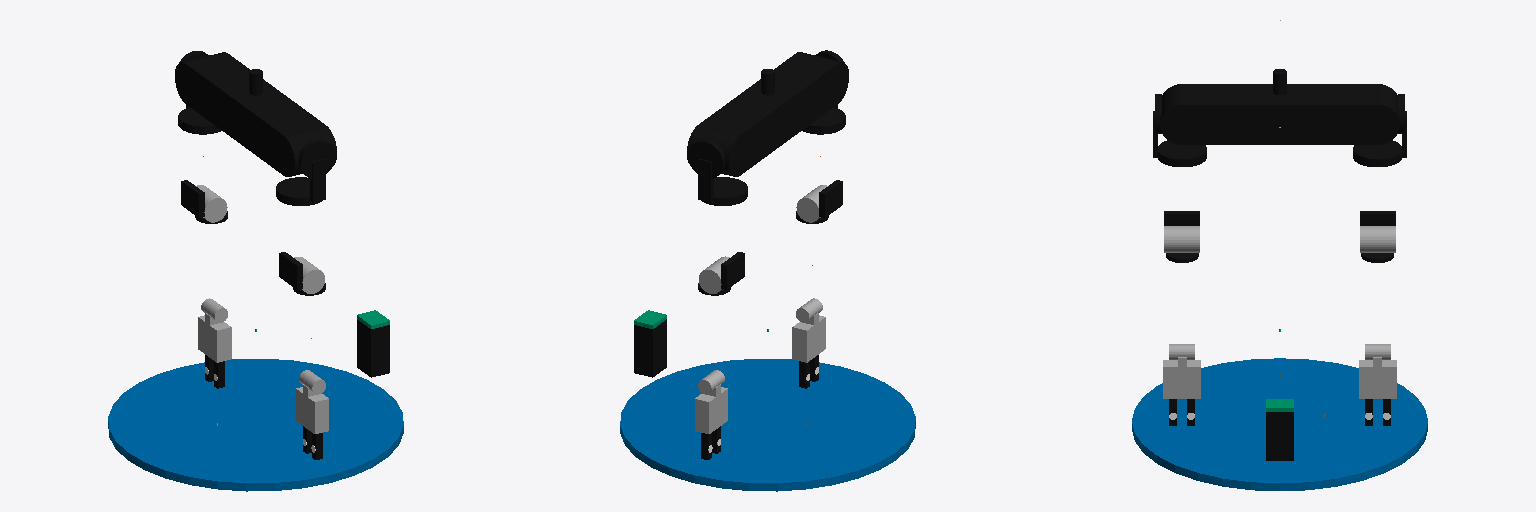
--- What the picture shows (computed from the rendered views, not written in the file) ---
The picture shows the robot from 3 angles, left to right: view 1: azimuth 30°, elevation 25°; view 2: azimuth 150°, elevation 25°; view 3: azimuth 270°, elevation 25°; orthographic projection.
Robot: amigo — 72 links, 71 joints (24 revolute, 1 prismatic, 46 fixed); root link base_link; default pose: every joint at zero.
Links seen in each view (by area): view 1: base_plate, clavicles, base_laser, shoulder_mount_right, hand_left, hand_right, upper_arm_top_right, shoulder_link1_right, shoulder_mount_left, upper_arm_top_left, elbow_extra_block_right, elbow_extra_block_left (+3 smaller); view 2: base_plate, clavicles, base_laser, shoulder_mount_left, hand_right, hand_left, upper_arm_top_left, shoulder_link1_left, shoulder_mount_right, upper_arm_top_right, elbow_extra_block_right, elbow_extra_block_left (+3 smaller); view 3: base_plate, clavicles, shoulder_mount_right, shoulder_mount_left, hand_right, hand_left, base_laser, upper_arm_top_right, upper_arm_top_left, elbow_extra_block2_right, elbow_extra_block2_left, elbow_extra_block_right (+1 smaller).
Link boxes in pixels (x1,y1,x2,y2): base_plate: (108, 359, 403, 491); clavicles: (187, 54, 324, 172); base_laser: (357, 320, 389, 377); shoulder_mount_right: (273, 125, 336, 176); hand_left: (198, 315, 231, 362); hand_right: (296, 387, 328, 433); upper_arm_top_right: (276, 177, 321, 205); shoulder_link1_right: (299, 139, 335, 178); shoulder_mount_left: (175, 52, 227, 105); upper_arm_top_left: (178, 107, 221, 134); elbow_extra_block_right: (279, 252, 302, 289); elbow_extra_block_left: (181, 180, 204, 217); base_plate: (620, 359, 915, 491); clavicles: (699, 54, 837, 174); base_laser: (634, 319, 666, 377); shoulder_mount_left: (687, 125, 750, 176); hand_right: (792, 315, 825, 362); hand_left: (695, 387, 727, 433); upper_arm_top_left: (702, 177, 747, 205); shoulder_link1_left: (688, 139, 724, 178); shoulder_mount_right: (796, 52, 848, 105); upper_arm_top_right: (802, 107, 845, 134); elbow_extra_block_right: (819, 180, 842, 217); elbow_extra_block_left: (721, 252, 744, 289); base_plate: (1132, 358, 1427, 490); clavicles: (1183, 84, 1376, 144); shoulder_mount_right: (1160, 84, 1203, 144); shoulder_mount_left: (1356, 84, 1399, 144); hand_right: (1163, 360, 1200, 398); hand_left: (1359, 360, 1396, 398); base_laser: (1266, 412, 1293, 460); upper_arm_top_right: (1158, 140, 1206, 166); upper_arm_top_left: (1353, 140, 1401, 166); elbow_extra_block2_right: (1164, 226, 1199, 252); elbow_extra_block2_left: (1360, 226, 1395, 252); elbow_extra_block_right: (1164, 211, 1199, 225).
Bounding box of the posed robot: 0.6681 × 0.666 × 1.05 m (x, y, z).
Meshes: 10 distinct files referenced, 14 mesh visuals loaded (10 Collada DAE).

The robot description file, URDF, robot "amigo":
<?xml version="1.0" ?>
<!-- =================================================================================== -->
<!-- |    This document was autogenerated by xacro from [local-path]/ros/groovy/tue/trunk/amigo_common/amigo_description/scripts/../urdf/xacro/amigo.urdf.xacro | -->
<!-- |    EDITING THIS FILE BY HAND IS NOT RECOMMENDED                                 | -->
<!-- =================================================================================== -->
<robot name="amigo" xmlns:controller="http://playerstage.sourceforge.net/gazebo/xmlschema/#controller" xmlns:interface="http://playerstage.sourceforge.net/gazebo/xmlschema/#interface" xmlns:sensor="http://playerstage.sourceforge.net/gazebo/xmlschema/#sensor" xmlns:xacro="http://ros.org/wiki/xacro">
  <author>Rob Janssen</author>
  <license>BSD</license>
  <review notes="" status="unreviewed"/>
  <!--get link & joint definitions -->
  <author>Kris van Tienhoven</author>
  <license>BSD</license>
  <review notes="" status="unreviewed"/>
  <!--get custom materials -->
  <author>Kris van Tienhoven</author>
  <license>BSD</license>
  <review notes="" status="unreviewed"/>
  <material name="Blue">
    <color rgba="0.0 0.0 0.8 1.0"/>
  </material>
  <material name="Green">
    <color rgba="0.0 0.8 0.0 1.0"/>
  </material>
  <material name="Grey">
    <color rgba="0.7 0.7 0.7 1.0"/>
  </material>
  <material name="Grey2">
    <color rgba="0.9 0.9 0.9 1.0"/>
  </material>
  <material name="Red">
    <color rgba="0.8 0.0 0.0 1.0"/>
  </material>
  <material name="White">
    <color rgba="1.0 1.0 1.0 1.0"/>
  </material>
  <material name="Black">
    <color rgba="0.1 0.1 0.1 1.0"/>
  </material>
  <material name="LightGrey">
    <color rgba="0.6 0.6 0.6 1.0"/>
  </material>
  <material name="amigo_description/bottomcovers">
    <texture filename="package://amigo_description/media/materials/textures/bottomcovers/finalreduced.jpg"/>
  </material>
  <material name="amigo_description/white">
    <texture filename="package://amigo_description/media/materials/textures/white/white.jpg"/>
  </material>
  <material name="amigo_description/logo">
    <texture filename="package://amigo_description/media/materials/textures/logo/tue.jpg"/>
  </material>
  <material name="amigo_description/aluminium">
    <texture filename="package://amigo_description/media/materials/textures/aluminium/aluminium_0001_c.jpg"/>
  </material>
  <material name="amigo_description/orange">
    <texture filename="package://amigo_description/media/materials/textures/orange/orange.jpg"/>
  </material>
  <!--========BUILD BODY======-->
  <author>Rob Janssen, Kris van Tienhoven</author>
  <license>BSD</license>
  <review notes="" status="unreviewed"/>
  <link name="torso">
    <inertial>
      <origin rpy="0 0 0" xyz="0.0 0.0 0.0"/>
      <mass value="16"/>
      <inertia ixx="0.01" ixy="0" ixz="0" iyy="0.01" iyz="0" izz="0.01"/>
    </inertial>
    <visual>
      <origin rpy="-1.5708 0 -1.5708" xyz="0.045 0.0 0.06"/>
      <geometry>
        <mesh filename="package://amigo_description/media/meshes/torsocovers.dae" scale="0.0004 0.0004 0.0004"/>
      </geometry>
      <material name="amigo_description/white"/>
    </visual>
    <collision>
      <origin rpy="-1.5708 0 -1.5708" xyz="0.045 0.0 0.06"/>
      <geometry>
        <mesh filename="package://amigo_description/media/meshes/torsocovers.dae" scale="0.0004 0.0004 0.0004"/>
      </geometry>
    </collision>
  </link>
  <gazebo reference="torso">
    <material>amigo_description/white</material>
    <turnGravityOff>false</turnGravityOff>
  </gazebo>
  <link name="torso_slider">
    <inertial>
      <origin rpy="0 0 0" xyz="0 0 0"/>
      <mass value="0.1"/>
      <inertia ixx="0.01" ixy="0" ixz="0" iyy="0.01" iyz="0" izz="0.01"/>
    </inertial>
    <visual>
      <origin rpy="0 0 1.5708" xyz="0.05 0 0.0"/>
      <geometry>
        <mesh filename="package://amigo_description/media/meshes/torsoslidertextured.dae" scale="0.004 0.004 0.004"/>
      </geometry>
      <material name="amigo_description/aluminium"/>
    </visual>
    <collision>
      <origin rpy="0 0 1.5708" xyz="0.05 0 0.0"/>
      <geometry>
        <mesh filename="package://amigo_description/media/meshes/torsoslidertextured.dae" scale="0.004 0.004 0.004"/>
      </geometry>
    </collision>
  </link>
  <gazebo reference="torso_slider">
    <material>amigo_description/aluminium</material>
    <turnGravityOff>false</turnGravityOff>
  </gazebo>
  <link name="base">
    <inertial>
      <origin rpy="0 0 0" xyz="0.0 0.0 0.3275"/>
      <mass value="20"/>
      <inertia ixx="2.63" ixy="0" ixz="0" iyy="2.63" iyz="0" izz="2.4"/>
    </inertial>
    <visual>
      <origin rpy="0 0 -1.5708" xyz="0.0 0.0 0.23"/>
      <geometry>
        <mesh filename="package://amigo_description/media/meshes/bottomcovers.dae" scale="0.0004 0.0004 0.0004"/>
      </geometry>
      <material name="amigo_description/bottomcovers"/>
    </visual>
    <collision>
      <origin rpy="0 0 -1.5708" xyz="0.0 0.0 0.23"/>
      <geometry>
        <mesh filename="package://amigo_description/media/meshes/bottomcovers.dae" scale="0.0004 0.0004 0.0004"/>
      </geometry>
    </collision>
  </link>
  <gazebo reference="base">
    <material>amigo_description/bottomcovers</material>
    <turnGravityOff>false</turnGravityOff>
  </gazebo>
  <link name="base_link">
    <inertial>
      <origin rpy="0 0 0" xyz="0.0 0.0 0.0"/>
      <mass value="0"/>
      <inertia ixx="0" ixy="0" ixz="0" iyy="0" iyz="0" izz="0"/>
    </inertial>
    <visual>
      <origin rpy="0 0 0" xyz="0.0 0.0 0.0"/>
      <geometry>
        <cylinder length="0.00" radius="0.0"/>
      </geometry>
      <material name="Red">
     </material>
    </visual>
    <collision>
      <origin rpy="0 0 0" xyz="0.0 0.0 0.0"/>
      <geometry>
        <cylinder length="0.00" radius="0.0"/>
      </geometry>
    </collision>
  </link>
  <gazebo reference="base_link">
    <material>Gazebo/Red</material>
    <turnGravityOff>false</turnGravityOff>
  </gazebo>
  <joint name="torso_joint" type="prismatic">
    <parent link="base"/>
    <child link="torso_slider"/>
    <axis xyz="1 0 0"/>
    <origin rpy="3.14159265 -1.5708 0" xyz="0.0 0.0 0.58"/>
    <dynamics damping="3" friction="0.0"/>
    <!--*-->
    <limit effort="1000" lower="0.0" upper="0.41" velocity="10.0"/>
    <!--*-->
  </joint>
  <joint name="base_link_joint" type="fixed">
    <parent link="base_link"/>
    <child link="base"/>
    <axis xyz="1 0 0"/>
    <origin rpy="0 0 0" xyz="0.0 0.0 0.055"/>
  </joint>
  <joint name="torso_slider_joint" type="fixed">
    <parent link="torso_slider"/>
    <child link="torso"/>
    <axis xyz="1 0 0"/>
    <origin rpy="0 0 0" xyz="0.135 0.0 0.0"/>
  </joint>
  <!--extra body visuals-->
  <author>Kris van Tienhoven</author>
  <license>BSD</license>
  <review notes="" status="unreviewed"/>
  <link name="base_plate">
    <inertial>
      <origin rpy="0 0 0" xyz="0.0 0.0 0.0"/>
      <mass value="0.1"/>
      <inertia ixx="0.01" ixy="0" ixz="0" iyy="0.01" iyz="0" izz="0.01"/>
    </inertial>
    <visual>
      <origin rpy="0 0 0" xyz="0.0 0.0 0.0"/>
      <geometry>
        <cylinder length="0.02" radius="0.333"/>
      </geometry>
      <material name="amigo_description/aluminium">
     </material>
    </visual>
    <collision>
      <origin rpy="0 0 0" xyz="0.0 0.0 0.0"/>
      <geometry>
        <cylinder length="0.02" radius="0.333"/>
      </geometry>
    </collision>
  </link>
  <gazebo reference="base_plate">
    <material>amigo_description/aluminium</material>
    <turnGravityOff>false</turnGravityOff>
  </gazebo>
  <joint name="base_plate_joint" type="fixed">
    <parent link="base_link"/>
    <child link="base_plate"/>
    <axis xyz="1 0 0"/>
    <origin rpy="0 0 0" xyz="0.0 0.0 0.05"/>
  </joint>
  <link name="torso_assist_slider_right">
    <inertial>
      <origin rpy="0 0 0" xyz="0 0 0"/>
      <mass value="0.01"/>
      <inertia ixx="0.01" ixy="0" ixz="0" iyy="0.01" iyz="0" izz="0.01"/>
    </inertial>
    <visual>
      <origin rpy="0 1.5708 0" xyz="-0.4  0.0 0.0"/>
      <geometry>
        <mesh filename="package://amigo_description/media/meshes/torsoassistslidertextured.dae" scale="0.004 0.004 0.005"/>
      </geometry>
      <material name="amigo_description/aluminium"/>
    </visual>
    <collision>
      <origin rpy="0 1.5708 0" xyz="-0.4  0.0 0.0"/>
      <geometry>
        <mesh filename="package://amigo_description/media/meshes/torsoassistslidertextured.dae" scale="0.004 0.004 0.005"/>
      </geometry>
    </collision>
  </link>
  <gazebo reference="torso_assist_slider_right">
    <material>amigo_description/aluminium</material>
    <turnGravityOff>false</turnGravityOff>
  </gazebo>
  <link name="torso_assist_slider_left">
    <inertial>
      <origin rpy="0 0 0" xyz="0 0 0"/>
      <mass value="0.01"/>
      <inertia ixx="0.01" ixy="0" ixz="0" iyy="0.01" iyz="0" izz="0.01"/>
    </inertial>
    <visual>
      <origin rpy="0 1.5708 0" xyz="-0.4  0.0 0.0"/>
      <geometry>
        <mesh filename="package://amigo_description/media/meshes/torsoassistslidertextured.dae" scale="0.004 0.004 0.005"/>
      </geometry>
      <material name="amigo_description/aluminium"/>
    </visual>
    <collision>
      <origin rpy="0 1.5708 0" xyz="-0.4  0.0 0.0"/>
      <geometry>
        <mesh filename="package://amigo_description/media/meshes/torsoassistslidertextured.dae" scale="0.004 0.004 0.005"/>
      </geometry>
    </collision>
  </link>
  <gazebo reference="torso_assist_slider_left">
    <material>amigo_description/aluminium</material>
    <turnGravityOff>false</turnGravityOff>
  </gazebo>
  <link name="torso_assist_slider_back">
    <inertial>
      <origin rpy="0 0 0" xyz="0 0 0"/>
      <mass value="0.01"/>
      <inertia ixx="0.01" ixy="0" ixz="0" iyy="0.01" iyz="0" izz="0.01"/>
    </inertial>
    <visual>
      <origin rpy="0 1.5708 0" xyz="-0.4 0.0 0.0"/>
      <geometry>
        <mesh filename="package://amigo_description/media/meshes/torsoassistslidertextured.dae" scale="0.004 0.004 0.005"/>
      </geometry>
      <material name="amigo_description/aluminium"/>
    </visual>
    <collision>
      <origin rpy="0 1.5708 0" xyz="-0.4 0.0 0.0"/>
      <geometry>
        <mesh filename="package://amigo_description/media/meshes/torsoassistslidertextured.dae" scale="0.004 0.004 0.005"/>
      </geometry>
    </collision>
  </link>
  <gazebo reference="torso_assist_slider_back">
    <material>amigo_description/aluminium</material>
    <turnGravityOff>false</turnGravityOff>
  </gazebo>
  <joint name="torso_slider_assist_joint_right" type="fixed">
    <parent link="torso"/>
    <child link="torso_assist_slider_right"/>
    <origin rpy="0 0 0" xyz="-0.3 0.1 0.0"/>
  </joint>
  <joint name="torso_slider_assist_joint_left" type="fixed">
    <parent link="torso"/>
    <child link="torso_assist_slider_left"/>
    <origin rpy="0 0 0" xyz="-0.3 -0.1 0.0"/>
  </joint>
  <joint name="torso_slider_assist_joint_back" type="fixed">
    <parent link="torso"/>
    <child link="torso_assist_slider_back"/>
    <origin rpy="1.5708 0 0" xyz="-0.3 0.0 -0.1"/>
  </joint>
  <link name="clavicles">
    <inertial>
      <origin rpy="0 0 0" xyz="0 0 0"/>
      <mass value="0.01"/>
      <inertia ixx="0.01" ixy="0" ixz="0" iyy="0.01" iyz="0" izz="0.01"/>
    </inertial>
    <visual>
      <origin rpy="0 0 0" xyz="0.0 0.0 0.0"/>
      <geometry>
        <box size="0.1 0.436 0.11"/>
      </geometry>
      <material name="Black">
     </material>
    </visual>
    <collision>
      <origin rpy="0 0 0" xyz="0.0 0.0 0.0"/>
      <geometry>
        <box size="0.1 0.436 0.11"/>
      </geometry>
    </collision>
  </link>
  <gazebo reference="clavicles">
    <material>Gazebo/Black</material>
    <turnGravityOff>false</turnGravityOff>
  </gazebo>
  <joint name="clavicle_joint" type="fixed">
    <parent link="torso"/>
    <child link="clavicles"/>
    <origin rpy="0 0 0" xyz="0.05 0.0 0.0"/>
  </joint>
  <!--========BUILD LASER======-->
  <author>Kris van Tienhoven</author>
  <license>BSD</license>
  <review notes="" status="unreviewed"/>
  <link name="base_laser">
    <inertial>
      <origin rpy="0 0 0" xyz="0.0 0.0 0.0"/>
      <mass value="0.5"/>
      <inertia ixx="0.0001" ixy="0" ixz="0" iyy="0.0001" iyz="0" izz="0.0001"/>
    </inertial>
    <visual>
      <origin rpy="0 0 0" xyz="-0.005 0.0 -0.065"/>
      <geometry>
        <box size="0.05 0.065 0.12"/>
      </geometry>
      <material name="Black">
     </material>
    </visual>
    <collision>
      <origin rpy="0 0 0" xyz="-0.005 0.0 -0.065"/>
      <geometry>
        <box size="0.05 0.065 0.12"/>
      </geometry>
    </collision>
  </link>
  <gazebo reference="base_laser">
    <material>Gazebo/Black</material>
    <turnGravityOff>false</turnGravityOff>
  </gazebo>
  <joint name="base_laser_joint" type="fixed">
    <parent link="base"/>
    <child link="base_laser"/>
    <origin rpy="0 0 0" xyz="0.31 0.0 0.185"/>
    <axis xyz="0 1 0"/>
    <dynamics damping="0.1" friction="0"/>
    <limit effort="13.4" lower="-0.7809" upper="1.5708" velocity="1.0"/>
  </joint>
  <link name="lasertop">
    <inertial>
      <origin rpy="0 0 0" xyz="0.0 0.0 0.0"/>
      <mass value="0.01"/>
      <inertia ixx="0.0001" ixy="0" ixz="0" iyy="0.0001" iyz="0" izz="0.0001"/>
    </inertial>
    <visual>
      <origin rpy="0 0 0" xyz="-0.005 0.0 0.0"/>
      <geometry>
        <box size="0.05 0.065 0.01"/>
      </geometry>
      <material name="amigo_description/orange">
     </material>
    </visual>
    <collision>
      <origin rpy="0 0 0" xyz="-0.005 0.0 0.0"/>
      <geometry>
        <box size="0.05 0.065 0.01"/>
      </geometry>
    </collision>
  </link>
  <gazebo reference="lasertop">
    <material>amigo_description/orange</material>
    <turnGravityOff>false</turnGravityOff>
  </gazebo>
  <joint name="lasertop_joint" type="fixed">
    <parent link="base_laser"/>
    <child link="lasertop"/>
  </joint>
  <link name="logo">
    <inertial>
      <origin rpy="0 0 0" xyz="0.0 0.0 0.0"/>
      <mass value="0.01"/>
      <inertia ixx="0.0001" ixy="0" ixz="0" iyy="0.0001" iyz="0" izz="0.0001"/>
    </inertial>
    <visual>
      <origin rpy="0 0 3.1415" xyz="0.025 0.0 -0.14"/>
      <geometry>
        <mesh filename="package://amigo_description/media/meshes/logo.dae" scale="0.0016 0.0016 0.0016"/>
      </geometry>
      <material name="amigo_description/logo"/>
    </visual>
    <collision>
      <origin rpy="0 0 3.1415" xyz="0.025 0.0 -0.14"/>
      <geometry>
        <mesh filename="package://amigo_description/media/meshes/logo.dae" scale="0.0016 0.0016 0.0016"/>
      </geometry>
    </collision>
  </link>
  <gazebo reference="logo">
    <material>amigo_description/logo</material>
    <turnGravityOff>false</turnGravityOff>
  </gazebo>
  <joint name="logo_joint" type="fixed">
    <parent link="base_laser"/>
    <child link="logo"/>
  </joint>
  <!--========BUILD HEAD======-->
  <author>Kris van Tienhoven</author>
  <license>BSD</license>
  <review notes="" status="unreviewed"/>
  <link name="head_mount">
    <inertial>
      <origin rpy="0 0 0" xyz="0.0 0.0 0.0"/>
      <mass value="0.001"/>
      <inertia ixx="0.0001" ixy="0" ixz="0" iyy="0.0001" iyz="0" izz="0.0001"/>
    </inertial>
  </link>
  <joint name="head_mount_joint" type="fixed">
    <parent link="torso"/>
    <child link="head_mount"/>
    <axis xyz="0 0 1"/>
    <origin rpy="  0.0 0.0 0.0" xyz="0.097 0.0 0.0"/>
  </joint>
  <link name="neck_pan">
    <inertial>
      <origin rpy="0 0 0" xyz="0.0 0.0 0.0335"/>
      <mass value="0.05"/>
      <inertia ixx="0.0001" ixy="0" ixz="0" iyy="0.0001" iyz="0" izz="0.0001"/>
    </inertial>
    <visual>
      <origin rpy="0 0 0" xyz="0.0 0.0 0.0335"/>
      <geometry>
        <cylinder length="0.0525" radius="0.015"/>
      </geometry>
      <material name="Black">
     </material>
    </visual>
    <collision>
      <origin rpy="0 0 0" xyz="0.0 0.0 0.0335"/>
      <geometry>
        <cylinder length="0.0525" radius="0.015"/>
      </geometry>
    </collision>
  </link>
  <gazebo reference="neck_pan">
    <material>Gazebo/Black</material>
    <turnGravityOff>false</turnGravityOff>
  </gazebo>
  <link name="neck_tilt">
    <inertial>
      <origin rpy="0 0 0" xyz="0.0 -0.0 0.0285"/>
      <mass value="0.05"/>
      <inertia ixx="0.001" ixy="0" ixz="0" iyy="0.001" iyz="0" izz="0.001"/>
    </inertial>
    <visual>
      <origin rpy="0 0 0" xyz="0.0 -0.0 0.015"/>
      <geometry>
        <mesh filename="package://amigo_description/media/meshes/necktilttextured.dae" scale="0.004 0.004 0.004"/>
      </geometry>
      <material name="amigo_description/aluminium"/>
    </visual>
    <collision>
      <origin rpy="0 0 0" xyz="0.0 -0.0 0.015"/>
      <geometry>
        <mesh filename="package://amigo_description/media/meshes/necktilttextured.dae" scale="0.004 0.004 0.004"/>
      </geometry>
    </collision>
  </link>
  <gazebo reference="neck_tilt">
    <material>amigo_description/aluminium</material>
    <turnGravityOff>false</turnGravityOff>
  </gazebo>
  <link name="head">
    <inertial>
      <origin rpy="0 0 0" xyz="0 0 0.041"/>
      <mass value="0"/>
      <inertia ixx="0" ixy="0" ixz="0" iyy="0" iyz="0" izz="0"/>
    </inertial>
    <visual>
      <origin rpy="0 0 -1.5708" xyz="0.0 0.0 0.141"/>
      <geometry>
        <mesh filename="package://amigo_description/media/meshes/headtextured.dae" scale="0.0004 0.0004 0.0004"/>
      </geometry>
      <material name="amigo_description/white"/>
    </visual>
    <collision>
      <origin rpy="0 0 -1.5708" xyz="0.0 0.0 0.141"/>
      <geometry>
        <mesh filename="package://amigo_description/media/meshes/headtextured.dae" scale="0.0004 0.0004 0.0004"/>
      </geometry>
    </collision>
  </link>
  <gazebo reference="head">
    <material>amigo_description/white</material>
    <turnGravityOff>false</turnGravityOff>
  </gazebo>
  <joint name="head_joint" type="fixed">
    <parent link="neck_tilt"/>
    <child link="head"/>
  </joint>
  <joint name="neck_pan_joint" type="revolute">
    <parent link="head_mount"/>
    <child link="neck_pan"/>
    <origin rpy="3.14 -1.5708 0.0" xyz="0.0 0.0 0.0"/>
    <axis xyz="0 0 1"/>
    <dynamics damping="0.1" friction="0"/>
    <limit effort="13.4" lower="-1.5708" upper="1.5708" velocity="1.0"/>
  </joint>
  <joint name="neck_tilt_joint" type="revolute">
    <parent link="neck_pan"/>
    <child link="neck_tilt"/>
    <origin rpy="0.0 0.0 0.0" xyz="0.0 0.0 0.0445"/>
    <axis xyz="0 1 0"/>
    <dynamics damping="0.1" friction="0.0"/>
    <limit effort="13.4" lower="-2.0" upper="2.0" velocity="1.0"/>
  </joint>
  <!--========BUILD KINECT======-->
  <joint name="top_kinect/base_kinect_joint" type="fixed">
    <origin rpy="0 0 0" xyz="0.07 0 0.07"/>
    <!-- THESE VALUES ARE ROUGH ESTIMATES!! -->
    <parent link="head"/>
    <child link="top_kinect/openni_camera"/>
  </joint>
  <link name="top_kinect/openni_camera">
    <inertial>
      <mass value="0.01"/>
      <origin xyz="0 0 0"/>
      <inertia ixx="0.001" ixy="0.0" ixz="0.0" iyy="0.001" iyz="0.0" izz="0.001"/>
    </inertial>
    <visual>
      <origin rpy="0 0 0" xyz=" 0 0 0 "/>
      <geometry>
        <box size="0 0 0"/>
        <!--mesh filename="package://amigo_description/kinect/meshes/kinect.dae" scale="0.001 0.001 0.001"/-->
        <!--<mesh filename="package://amigo_description/kinect/meshes/kinect_without_base.dae"/>-->
      </geometry>
    </visual>
    <!--<collision>
      <origin xyz="-0.0365 0.0 0.0" rpy="0 0 0" />
      <geometry>
        <box size="0.0730 .2760 0.0720"/>
      </geometry>
    </collision>-->
  </link>
  <joint name="top_kinect/kinect_depth_joint" type="fixed">
    <origin rpy="0 0 0" xyz="0 0.018 0"/>
    <parent link="top_kinect/openni_camera"/>
    <child link="top_kinect/openni_depth_frame"/>
  </joint>
  <link name="top_kinect/openni_depth_frame">
    <inertial>
      <mass value="0.01"/>
      <origin xyz="0 0 0"/>
      <inertia ixx="0.001" ixy="0.0" ixz="0.0" iyy="0.001" iyz="0.0" izz="0.001"/>
    </inertial>
  </link>
  <joint name="top_kinect/kinect_depth_optical_joint" type="fixed">
    <origin rpy="-1.570795 0 -1.570795" xyz="0 0 0"/>
    <parent link="top_kinect/openni_depth_frame"/>
    <child link="top_kinect/openni_depth_optical_frame"/>
  </joint>
  <link name="top_kinect/openni_depth_optical_frame">
    <inertial>
      <mass value="0.001"/>
      <origin xyz="0 0 0"/>
      <inertia ixx="0.0001" ixy="0.0" ixz="0.0" iyy="0.0001" iyz="0.0" izz="0.0001"/>
    </inertial>
  </link>
  <joint name="top_kinect/kinect_rgb_joint" type="fixed">
    <origin rpy="0 0 0" xyz="0 -0.005 0"/>
    <parent link="top_kinect/openni_camera"/>
    <child link="top_kinect/openni_rgb_frame"/>
  </joint>
  <link name="top_kinect/openni_rgb_frame">
    <inertial>
      <mass value="0.001"/>
      <origin xyz="0 0 0"/>
      <inertia ixx="0.0001" ixy="0.0" ixz="0.0" iyy="0.0001" iyz="0.0" izz="0.0001"/>
    </inertial>
  </link>
  <joint name="top_kinect/kinect_rgb_optical_joint" type="fixed">
    <origin rpy="-1.570795 0 -1.570795" xyz="0 0 0"/>
    <parent link="top_kinect/openni_rgb_frame"/>
    <child link="top_kinect/openni_rgb_optical_frame"/>
  </joint>
  <link name="top_kinect/openni_rgb_optical_frame">
    <inertial>
      <mass value="0.001"/>
      <origin xyz="0 0 0"/>
      <inertia ixx="0.0001" ixy="0.0" ixz="0.0" iyy="0.0001" iyz="0.0" izz="0.0001"/>
    </inertial>
  </link>
  <joint name="base_kinect/base_kinect_joint" type="fixed">
    <origin rpy="0 -0.07 0" xyz="0.3 0 0.26"/>
    <!-- THESE VALUES STILL HAVE TO BE CALIBRATED!! -->
    <parent link="base"/>
    <child link="base_kinect/openni_camera"/>
  </joint>
  <link name="base_kinect/openni_camera">
    <inertial>
      <mass value="0.01"/>
      <origin xyz="0 0 0"/>
      <inertia ixx="0.001" ixy="0.0" ixz="0.0" iyy="0.001" iyz="0.0" izz="0.001"/>
    </inertial>
    <visual>
      <origin rpy="0 0 0" xyz=" 0 0 0 "/>
      <geometry>
        <!--<box size="0 0 0"/>-->
        <!--mesh filename="package://amigo_description/description/kinect/meshes/kinect.dae" scale="0.001 0.001 0.001"/-->
        <mesh filename="package://amigo_description/media/meshes/kinect/kinect_without_base.dae"/>
      </geometry>
    </visual>
    <collision>
      <origin rpy="0 0 0" xyz=" 0 0 0 "/>
      <geometry>
        <!--<box size="0.01 0.01 0.01"/>-->
        <!--<mesh filename="package://amigo_description/description/kinect/meshes/kinect.dae" scale="0.001 0.001 0.001"/>-->
        <mesh filename="package://amigo_description/media/meshes/kinect/kinect_without_base.dae"/>
      </geometry>
    </collision>
  </link>
  <joint name="base_kinect/kinect_depth_joint" type="fixed">
    <origin rpy="0 0 0" xyz="0 0.018 0"/>
    <parent link="base_kinect/openni_camera"/>
    <child link="base_kinect/openni_depth_frame"/>
  </joint>
  <link name="base_kinect/openni_depth_frame">
    <inertial>
      <mass value="0.01"/>
      <origin xyz="0 0 0"/>
      <inertia ixx="0.001" ixy="0.0" ixz="0.0" iyy="0.001" iyz="0.0" izz="0.001"/>
    </inertial>
  </link>
  <joint name="base_kinect/kinect_depth_optical_joint" type="fixed">
    <origin rpy="-1.570795 0 -1.570795" xyz="0 0 0"/>
    <parent link="base_kinect/openni_depth_frame"/>
    <child link="base_kinect/openni_depth_optical_frame"/>
  </joint>
  <link name="base_kinect/openni_depth_optical_frame">
    <inertial>
      <mass value="0.001"/>
      <origin xyz="0 0 0"/>
      <inertia ixx="0.0001" ixy="0.0" ixz="0.0" iyy="0.0001" iyz="0.0" izz="0.0001"/>
    </inertial>
  </link>
  <joint name="base_kinect/kinect_rgb_joint" type="fixed">
    <origin rpy="0 0 0" xyz="0 -0.005 0"/>
    <parent link="base_kinect/openni_camera"/>
    <child link="base_kinect/openni_rgb_frame"/>
  </joint>
  <link name="base_kinect/openni_rgb_frame">
    <inertial>
      <mass value="0.001"/>
      <origin xyz="0 0 0"/>
      <inertia ixx="0.0001" ixy="0.0" ixz="0.0" iyy="0.0001" iyz="0.0" izz="0.0001"/>
    </inertial>
  </link>
  <joint name="base_kinect/kinect_rgb_optical_joint" type="fixed">
    <origin rpy="-1.570795 0 -1.570795" xyz="0 0 0"/>
    <parent link="base_kinect/openni_rgb_frame"/>
    <child link="base_kinect/openni_rgb_optical_frame"/>
  </joint>
  <link name="base_kinect/openni_rgb_optical_frame">
    <inertial>
      <mass value="0.001"/>
      <origin xyz="0 0 0"/>
      <inertia ixx="0.0001" ixy="0.0" ixz="0.0" iyy="0.0001" iyz="0.0" izz="0.0001"/>
    </inertial>
  </link>
  <!--========BUILD ARMS======-->
  <author>Rob Janssen, Kris van Tienhoven</author>
  <license>BSD</license>
  <review notes="" status="unreviewed"/>
  <link name="shoulder_mount_right">
    <inertial>
      <origin rpy="0 0 0" xyz="0.0 0.0 0.0"/>
      <mass value="0.15"/>
      <inertia ixx="0.01" ixy="0" ixz="0" iyy="0.01" iyz="0" izz="0.01"/>
    </inertial>
    <visual>
      <origin rpy="0 0 0 " xyz="0.0 0.0 0.0"/>
      <geometry>
        <cylinder length="0.11" radius="0.05"/>
      </geometry>
      <material name="Black">
     </material>
    </visual>
    <collision>
      <origin rpy="0 0 0 " xyz="0.0 0.0 0.0"/>
      <geometry>
        <cylinder length="0.11" radius="0.05"/>
      </geometry>
    </collision>
  </link>
  <gazebo reference="shoulder_mount_right">
    <material>Gazebo/Black</material>
    <turnGravityOff>false</turnGravityOff>
  </gazebo>
  <link name="shoulder_link1_right">
    <inertial>
      <origin rpy="0 0 0" xyz="0.0 0.0 0.0"/>
      <mass value="0.25"/>
      <inertia ixx="6.0" ixy="0" ixz="0" iyy="0.01" iyz="0" izz="0.01"/>
    </inertial>
    <visual>
      <origin rpy="0 0 0 " xyz="0.0 0.0 0.0525"/>
      <geometry>
        <cylinder length="0.015" radius="0.045"/>
      </geometry>
      <material name="Black">
     </material>
    </visual>
    <collision>
      <origin rpy="0 0 0 " xyz="0.0 0.0 0.0525"/>
      <geometry>
        <cylinder length="0.015" radius="0.045"/>
      </geometry>
    </collision>
  </link>
  <gazebo reference="shoulder_link1_right">
    <material>Gazebo/Black</material>
    <turnGravityOff>false</turnGravityOff>
  </gazebo>
  <link name="shoulder_link2_right">
    <inertial>
      <origin rpy="0 0 0" xyz="0.0 0.0 0.0"/>
      <mass value="0.15"/>
      <inertia ixx="0.01" ixy="0" ixz="0" iyy="4.04" iyz="0" izz="0.001"/>
    </inertial>
    <visual>
      <origin rpy="0 0 0" xyz="0.0 -0.06 -0.05"/>
      <geometry>
        <box size="0.035 0.01 0.1"/>
      </geometry>
      <material name="Black">
     </material>
    </visual>
    <collision>
      <origin rpy="0 0 0" xyz="0.0 -0.06 -0.05"/>
      <geometry>
        <box size="0.035 0.01 0.1"/>
      </geometry>
    </collision>
  </link>
  <gazebo reference="shoulder_link2_right">
    <material>Gazebo/Black</material>
    <turnGravityOff>false</turnGravityOff>
  </gazebo>
  <link name="upper_arm_right">
    <inertial>
      <origin rpy="0 0 0" xyz="0.0 -0.2 0.0"/>
      <mass value="2.95"/>
      <inertia ixx="0.027" ixy="0" ixz="0" iyy="0.45993" iyz="0" izz="0.004"/>
    </inertial>
    <visual>
      <origin rpy="0 0 3.1415" xyz="-0.00959 -0.19131 -0.00001"/>
      <geometry>
        <mesh filename="package://amigo_description/media/meshes/upperarmtextured.dae" scale="0.0004 0.0004 0.0004"/>
      </geometry>
      <material name="amigo_description/white"/>
    </visual>
    <collision>
      <origin rpy="0 0 3.1415" xyz="-0.00959 -0.19131 -0.00001"/>
      <geometry>
        <mesh filename="package://amigo_description/media/meshes/upperarmtextured.dae" scale="0.0004 0.0004 0.0004"/>
      </geometry>
    </collision>
  </link>
  <gazebo reference="upper_arm_right">
    <material>amigo_description/white</material>
    <turnGravityOff>false</turnGravityOff>
  </gazebo>
  <link name="elbow_link4_right">
    <inertial>
      <origin rpy="0 0 0" xyz="0.0 0.0 0.0"/>
      <mass value="0.1"/>
      <inertia ixx="0.001" ixy="0" ixz="0" iyy="0.6" iyz="0" izz="0.001"/>
    </inertial>
    <visual>
      <origin rpy="0 0 0" xyz="0.0 0.0 0.0"/>
      <geometry>
        <cylinder length="0.0" radius="0.0"/>
      </geometry>
      <material name="Grey">
     </material>
    </visual>
    <collision>
      <origin rpy="0 0 0" xyz="0.0 0.0 0.0"/>
      <geometry>
        <cylinder length="0.0" radius="0.0"/>
      </geometry>
    </collision>
  </link>
  <gazebo reference="elbow_link4_right">
    <material>Gazebo/Grey</material>
    <turnGravityOff>false</turnGravityOff>
  </gazebo>
  <link name="fore_arm_right">
    <inertial>
      <origin rpy="0.0 0 0" xyz="0.0 -0.14 0.0"/>
      <mass value="0.85"/>
      <inertia ixx="0.001" ixy="0" ixz="0" iyy="0.5" iyz="0" izz="0.001"/>
    </inertial>
    <visual>
      <origin rpy="0 -1.5708 0" xyz="0.00425 -0.14868 0.00547"/>
      <geometry>
        <mesh filename="package://amigo_description/media/meshes/forearmtextured.dae" scale="0.0004 0.0004 0.0004"/>
      </geometry>
      <material name="amigo_description/white"/>
    </visual>
    <collision>
      <origin rpy="0 -1.5708 0" xyz="0.00425 -0.14868 0.00547"/>
      <geometry>
        <mesh filename="package://amigo_description/media/meshes/forearmtextured.dae" scale="0.0004 0.0004 0.0004"/>
      </geometry>
    </collision>
  </link>
  <gazebo reference="fore_arm_right">
    <material>amigo_description/white</material>
    <turnGravityOff>false</turnGravityOff>
  </gazebo>
  <link name="wrist_link6_right">
    <inertial>
      <origin rpy="0 0 0" xyz="0.0 0.0 0.0"/>
      <mass value="0.01"/>
      <inertia ixx="0.001" ixy="0" ixz="0" iyy="0.03322" iyz="0" izz="0.001"/>
    </inertial>
    <visual>
      <origin rpy="1.5708 0 0" xyz="0.0 0.0 0.0"/>
      <geometry>
        <cylinder length="0.0" radius="0.0"/>
      </geometry>
      <material name="Black">
     </material>
    </visual>
    <collision>
      <origin rpy="1.5708 0 0" xyz="0.0 0.0 0.0"/>
      <geometry>
        <cylinder length="0.0" radius="0.0"/>
      </geometry>
    </collision>
  </link>
  <gazebo reference="wrist_link6_right">
    <material>Gazebo/Black</material>
    <turnGravityOff>false</turnGravityOff>
  </gazebo>
  <link name="hand_right">
    <inertial>
      <origin rpy="0 0 0" xyz="0.048 0.0 0.0"/>
      <mass value="0.2"/>
      <inertia ixx="0.01" ixy="0" ixz="0" iyy="0.01" iyz="0" izz="0.0622"/>
    </inertial>
    <visual>
      <origin rpy="0 0 0" xyz="0.048 0.0 0.0"/>
      <geometry>
        <box size="0.080 0.085 0.038"/>
      </geometry>
      <material name="Grey">
     </material>
    </visual>
    <collision>
      <origin rpy="0 0 0" xyz="0.048 0.0 0.0"/>
      <geometry>
        <box size="0.080 0.085 0.038"/>
      </geometry>
    </collision>
  </link>
  <gazebo reference="hand_right">
    <material>Gazebo/Grey</material>
    <turnGravityOff>false</turnGravityOff>
  </gazebo>
  <link name="finger1_right">
    <inertial>
      <origin rpy="0 0 0" xyz="0.0 0.0 -0.03"/>
      <mass value="0.01"/>
      <inertia ixx="0.01" ixy="0" ixz="0" iyy="0.01" iyz="0" izz="0.01"/>
    </inertial>
    <visual>
      <origin rpy="0 0 0" xyz="0.0 0.0 -0.03"/>
      <geometry>
        <box size="0.018 0.018 0.06"/>
      </geometry>
      <material name="Black">
     </material>
    </visual>
    <collision>
      <origin rpy="0 0 0" xyz="0.0 0.0 -0.03"/>
      <geometry>
        <box size="0.018 0.018 0.06"/>
      </geometry>
    </collision>
  </link>
  <gazebo reference="finger1_right">
    <material>Gazebo/Black</material>
    <turnGravityOff>false</turnGravityOff>
  </gazebo>
  <gazebo reference="finger1_right">
    <mu1 value="100.0"/>
    <mu2 value="100.0"/>
  </gazebo>
  <link name="finger1_phalanx_right">
    <inertial>
      <origin rpy="0 0 0" xyz="0.0 0.0 0"/>
      <mass value="0.01"/>
      <inertia ixx="0.001" ixy="0" ixz="0" iyy="0.001" iyz="0" izz="0.001"/>
    </inertial>
    <visual>
      <origin rpy="0 0 0" xyz="0.0 0.0 0"/>
      <geometry>
        <cylinder length="0.019" radius="0.009"/>
      </geometry>
      <material name="White">
     </material>
    </visual>
    <collision>
      <origin rpy="0 0 0" xyz="0.0 0.0 0"/>
      <geometry>
        <cylinder length="0.019" radius="0.009"/>
      </geometry>
    </collision>
  </link>
  <gazebo reference="finger1_phalanx_right">
    <material>Gazebo/White</material>
    <turnGravityOff>false</turnGravityOff>
  </gazebo>
  <link name="finger1_tip_right">
    <inertial>
      <origin rpy="0 0 0" xyz="0.0 0.0 -0.03"/>
      <mass value="0.01"/>
      <inertia ixx="0.00037" ixy="0" ixz="0" iyy="0.00052" iyz="0" izz="0.00052"/>
    </inertial>
    <visual>
      <origin rpy="0 0 0" xyz="0.0 0.0 -0.03"/>
      <geometry>
        <box size="0.018 0.018 0.06"/>
      </geometry>
      <material name="Black">
     </material>
    </visual>
    <collision>
      <origin rpy="0 0 0" xyz="0.0 0.0 -0.03"/>
      <geometry>
        <box size="0.018 0.018 0.06"/>
      </geometry>
    </collision>
  </link>
  <gazebo reference="finger1_tip_right">
    <material>Gazebo/Black</material>
    <turnGravityOff>false</turnGravityOff>
  </gazebo>
  <gazebo reference="finger1_tip_right">
    <mu1 value="100.0"/>
    <mu2 value="100.0"/>
  </gazebo>
  <link name="finger1_tip_phalanx_right">
    <inertial>
      <origin rpy="0 0 0" xyz="0.0 0.0 0"/>
      <mass value="0.01"/>
      <inertia ixx="0.001" ixy="0" ixz="0" iyy="0.001" iyz="0" izz="0.001"/>
    </inertial>
    <visual>
      <origin rpy="0 0 0" xyz="0.0 0.0 0"/>
      <geometry>
        <cylinder length="0.017" radius="0.009"/>
      </geometry>
      <material name="White">
     </material>
    </visual>
    <collision>
      <origin rpy="0 0 0" xyz="0.0 0.0 0"/>
      <geometry>
        <cylinder length="0.017" radius="0.009"/>
      </geometry>
    </collision>
  </link>
  <gazebo reference="finger1_tip_phalanx_right">
    <material>Gazebo/White</material>
    <turnGravityOff>false</turnGravityOff>
  </gazebo>
  <link name="finger2_right">
    <inertial>
      <origin rpy="0 0 0" xyz="0.0 0.0 -0.03"/>
      <mass value="0.01"/>
      <inertia ixx="0.01" ixy="0" ixz="0" iyy="0.01" iyz="0" izz="0.01"/>
    </inertial>
    <visual>
      <origin rpy="0 0 0" xyz="0.0 0.0 -0.03"/>
      <geometry>
        <box size="0.018 0.018 0.06"/>
      </geometry>
      <material name="Black">
     </material>
    </visual>
    <collision>
      <origin rpy="0 0 0" xyz="0.0 0.0 -0.03"/>
      <geometry>
        <box size="0.018 0.018 0.06"/>
      </geometry>
    </collision>
  </link>
  <gazebo reference="finger2_right">
    <material>Gazebo/Black</material>
    <turnGravityOff>false</turnGravityOff>
  </gazebo>
  <gazebo reference="finger2_right">
    <mu1 value="100.0"/>
    <mu2 value="100.0"/>
  </gazebo>
  <link name="finger2_phalanx_right">
    <inertial>
      <origin rpy="0 0 0" xyz="0.0 0.0 0"/>
      <mass value="0.01"/>
      <inertia ixx="0.001" ixy="0" ixz="0" iyy="0.001" iyz="0" izz="0.001"/>
    </inertial>
    <visual>
      <origin rpy="0 0 0" xyz="0.0 0.0 0"/>
      <geometry>
        <cylinder length="0.019" radius="0.009"/>
      </geometry>
      <material name="White">
     </material>
    </visual>
    <collision>
      <origin rpy="0 0 0" xyz="0.0 0.0 0"/>
      <geometry>
        <cylinder length="0.019" radius="0.009"/>
      </geometry>
    </collision>
  </link>
  <gazebo reference="finger2_phalanx_right">
    <material>Gazebo/White</material>
    <turnGravityOff>false</turnGravityOff>
  </gazebo>
  <link name="finger2_tip_right">
    <inertial>
      <origin rpy="0 0 0" xyz="0.0 0.0 -0.03"/>
      <mass value="0.01"/>
      <inertia ixx="0.00037" ixy="0" ixz="0" iyy="0.00052" iyz="0" izz="0.00052"/>
    </inertial>
    <visual>
      <origin rpy="0 0 0" xyz="0.0 0.0 -0.03"/>
      <geometry>
        <box size="0.018 0.018 0.06"/>
      </geometry>
      <material name="Black">
     </material>
    </visual>
    <collision>
      <origin rpy="0 0 0" xyz="0.0 0.0 -0.03"/>
      <geometry>
        <box size="0.018 0.018 0.06"/>
      </geometry>
    </collision>
  </link>
  <gazebo reference="finger2_tip_right">
    <material>Gazebo/Black</material>
    <turnGravityOff>false</turnGravityOff>
  </gazebo>
  <gazebo reference="finger2_tip_right">
    <mu1 value="100.0"/>
    <mu2 value="100.0"/>
  </gazebo>
  <link name="finger2_tip_phalanx_right">
    <inertial>
      <origin rpy="0 0 0" xyz="0.0 0.0 0"/>
      <mass value="0.01"/>
      <inertia ixx="0.001" ixy="0" ixz="0" iyy="0.001" iyz="0" izz="0.001"/>
    </inertial>
    <visual>
      <origin rpy="0 0 0" xyz="0.0 0.0 0"/>
      <geometry>
        <cylinder length="0.017" radius="0.009"/>
      </geometry>
      <material name="White">
     </material>
    </visual>
    <collision>
      <origin rpy="0 0 0" xyz="0.0 0.0 0"/>
      <geometry>
        <cylinder length="0.017" radius="0.009"/>
      </geometry>
    </collision>
  </link>
  <gazebo reference="finger2_tip_phalanx_right">
    <material>Gazebo/White</material>
    <turnGravityOff>false</turnGravityOff>
  </gazebo>
  <link name="grippoint_right">
    <inertial>
      <origin rpy="0 0 0" xyz="-0.1 0.0 0.0"/>
      <mass value="0.01"/>
      <inertia ixx="0.0001" ixy="0" ixz="0" iyy="0.0001" iyz="0" izz="0.0001"/>
    </inertial>
    <visual>
      <origin rpy="0 0 0 " xyz="-0.1 0.0 0.0"/>
      <geometry>
        <box size="0.0 0.0 0.0"/>
      </geometry>
      <material name="Blue">
     </material>
    </visual>
    <collision>
      <origin rpy="0 0 0 " xyz="-0.1 0.0 0.0"/>
      <geometry>
        <box size="0.0 0.0 0.0"/>
      </geometry>
    </collision>
  </link>
  <gazebo reference="grippoint_right">
    <material>Gazebo/Blue</material>
    <turnGravityOff>false</turnGravityOff>
  </gazebo>
  <joint name="shoulder_mount_joint_right" type="fixed">
    <parent link="torso"/>
    <child link="shoulder_mount_right"/>
    <origin rpy="0 0 0.0" xyz="0.05 0.22 0.0"/>
  </joint>
  <joint name="shoulder_yaw_joint_right" type="revolute">
    <parent link="shoulder_mount_right"/>
    <child link="shoulder_link1_right"/>
    <origin rpy="-1.5708 -1.5708 0" xyz="0 0 0"/>
    <axis xyz="+1 0 0"/>
    <dynamics damping="4.0" friction="4.87"/>
    <limit effort="13.4" lower="-1.57" upper="0.0" velocity="1.0"/>
  </joint>
  <joint name="shoulder_pitch_joint_right" type="revolute">
    <parent link="shoulder_link1_right"/>
    <child link="shoulder_link2_right"/>
    <origin rpy="-1.5708  0 0" xyz="0.0 0.0 0.0"/>
    <axis xyz="0 -1 0"/>
    <dynamics damping="4.0" friction="6.06"/>
    <limit effort="13.4" lower="-1.57" upper="1.57" velocity="1.0"/>
  </joint>
  <joint name="shoulder_roll_joint_right" type="revolute">
    <parent link="shoulder_link2_right"/>
    <child link="upper_arm_right"/>
    <origin rpy="1.5708 0 0.0" xyz="0.0 0.0 0.0"/>
    <axis xyz="0 1.0 0"/>
    <dynamics damping="3.8" friction="2.216"/>
    <limit effort="9.8" lower="-1.57" upper="1.57" velocity="1.0"/>
  </joint>
  <joint name="elbow_pitch_joint_right" type="revolute">
    <parent link="upper_arm_right"/>
    <child link="elbow_link4_right"/>
    <origin rpy="-1.5708 0 0" xyz="0.01 -0.32 0.0"/>
    <axis xyz="0 -1 0"/>
    <dynamics damping="3" friction="1.18"/>
    <limit effort="4.5" lower="0.0" upper="2.23" velocity="1.0"/>
  </joint>
  <joint name="elbow_roll_joint_right" type="revolute">
    <parent link="elbow_link4_right"/>
    <child link="fore_arm_right"/>
    <origin rpy="1.5708 0 0" xyz="0.0 0.0 0.0"/>
    <axis xyz="0 1.0 0"/>
    <dynamics damping="3.5" friction="1.35"/>
    <limit effort="4.5" lower="-1.83" upper="1.83" velocity="1.0"/>
  </joint>
  <joint name="wrist_pitch_joint_right" type="revolute">
    <parent link="fore_arm_right"/>
    <child link="wrist_link6_right"/>
    <origin rpy="-1.5708 0 -1.5708" xyz="0.01 -0.28 0.0"/>
    <axis xyz="0 -1 0"/>
    <dynamics damping="0.35" friction="0.63"/>
    <limit effort="1" lower="-0.95" upper="0.95" velocity="1.0"/>
  </joint>
  <joint name="wrist_yaw_joint_right" type="revolute">
    <parent link="wrist_link6_right"/>
    <child link="hand_right"/>
    <origin rpy="0 0 0" xyz="0.0 0.0 0.0"/>
    <axis xyz="0 0 1.01"/>
    <dynamics damping="0.3" friction="0.68"/>
    <limit effort="1" lower="-0.61" upper="0.61" velocity="1.0"/>
  </joint>
  <joint name="finger1_joint_right" type="revolute">
    <parent link="hand_right"/>
    <child link="finger1_right"/>
    <origin rpy="0 -1.57 0" xyz=" 0.075 0.02 0"/>
    <axis xyz="1 0 0"/>
    <dynamics damping="0.5" friction="1.0"/>
    <limit effort="3" lower="-1.57" upper="1.57" velocity="1.0"/>
  </joint>
  <joint name="finger1_phalanx_joint_right" type="fixed">
    <parent link="finger1_right"/>
    <child link="finger1_phalanx_right"/>
    <origin rpy="0 1.57 0" xyz="0 0 -0.06"/>
  </joint>
  <joint name="finger1_tip_joint_right" type="revolute">
    <parent link="finger1_right"/>
    <child link="finger1_tip_right"/>
    <origin rpy="0 0 0" xyz=" 0 0.0 -0.06"/>
    <axis xyz="1 0 0"/>
    <dynamics damping="0.5" friction="1.0"/>
    <limit effort="3" lower="-1.57" upper="1.57" velocity="1.0"/>
  </joint>
  <joint name="finger1_tip_phalanx_joint_right" type="fixed">
    <parent link="finger1_tip_right"/>
    <child link="finger1_tip_phalanx_right"/>
    <origin rpy="0 1.57 0" xyz="0 0 -0.06"/>
  </joint>
  <joint name="finger2_joint_right" type="revolute">
    <parent link="hand_right"/>
    <child link="finger2_right"/>
    <origin rpy="0 -1.57 0" xyz="0.075 -0.02 0"/>
    <axis xyz="-1 0 0"/>
    <dynamics damping="0.5" friction="1.0"/>
    <limit effort="3" lower="-1.57" upper="1.57" velocity="1.0"/>
  </joint>
  <joint name="finger2_phalanx_joint_right" type="fixed">
    <parent link="finger2_right"/>
    <child link="finger2_phalanx_right"/>
    <origin rpy="0 1.57 0" xyz="0 0 -0.06"/>
  </joint>
  <joint name="finger2_tip_joint_right" type="revolute">
    <parent link="finger2_right"/>
    <child link="finger2_tip_right"/>
    <origin rpy="0 0 0" xyz="0 0 -0.06"/>
    <axis xyz="-1 0 0"/>
    <dynamics damping="0.5" friction="1.0"/>
    <limit effort="3" lower="-1.57" upper="1.57" velocity="1.0"/>
  </joint>
  <joint name="finger2_tip_phalanx_joint_right" type="fixed">
    <parent link="finger2_tip_right"/>
    <child link="finger2_tip_phalanx_right"/>
    <origin rpy="0 1.57 0" xyz="0 0 -0.06"/>
  </joint>
  <joint name="grippoint_joint_right" type="fixed">
    <parent link="hand_right"/>
    <child link="grippoint_right"/>
    <origin rpy="0 0 0" xyz="0.14 0.0 0.0"/>
  </joint>
  <link name="shoulder_mount_left">
    <inertial>
      <origin rpy="0 0 0" xyz="0.0 0.0 0.0"/>
      <mass value="0.15"/>
      <inertia ixx="0.01" ixy="0" ixz="0" iyy="0.01" iyz="0" izz="0.01"/>
    </inertial>
    <visual>
      <origin rpy="0 0 0 " xyz="0.0 0.0 0.0"/>
      <geometry>
        <cylinder length="0.11" radius="0.05"/>
      </geometry>
      <material name="Black">
     </material>
    </visual>
    <collision>
      <origin rpy="0 0 0 " xyz="0.0 0.0 0.0"/>
      <geometry>
        <cylinder length="0.11" radius="0.05"/>
      </geometry>
    </collision>
  </link>
  <gazebo reference="shoulder_mount_left">
    <material>Gazebo/Black</material>
    <turnGravityOff>false</turnGravityOff>
  </gazebo>
  <link name="shoulder_link1_left">
    <inertial>
      <origin rpy="0 0 0" xyz="0.0 0.0 0.0"/>
      <mass value="0.25"/>
      <inertia ixx="6.0" ixy="0" ixz="0" iyy="0.01" iyz="0" izz="0.01"/>
    </inertial>
    <visual>
      <origin rpy="0 0 0 " xyz="0.0 0.0 -0.0525"/>
      <geometry>
        <cylinder length="0.015" radius="0.045"/>
      </geometry>
      <material name="Black">
     </material>
    </visual>
    <collision>
      <origin rpy="0 0 0 " xyz="0.0 0.0 -0.0525"/>
      <geometry>
        <cylinder length="0.015" radius="0.045"/>
      </geometry>
    </collision>
  </link>
  <gazebo reference="shoulder_link1_left">
    <material>Gazebo/Black</material>
    <turnGravityOff>false</turnGravityOff>
  </gazebo>
  <link name="shoulder_link2_left">
    <inertial>
      <origin rpy="0 0 0" xyz="0.0 0.0 0.0"/>
      <mass value="0.15"/>
      <inertia ixx="0.01" ixy="0" ixz="0" iyy="4.04" iyz="0" izz="0.001"/>
    </inertial>
    <visual>
      <origin rpy="0 0 0" xyz="0.0 0.06 -0.05"/>
      <geometry>
        <box size="0.035 0.01 0.1"/>
      </geometry>
      <material name="Black">
     </material>
    </visual>
    <collision>
      <origin rpy="0 0 0" xyz="0.0 0.06 -0.05"/>
      <geometry>
        <box size="0.035 0.01 0.1"/>
      </geometry>
    </collision>
  </link>
  <gazebo reference="shoulder_link2_left">
    <material>Gazebo/Black</material>
    <turnGravityOff>false</turnGravityOff>
  </gazebo>
  <link name="upper_arm_left">
    <inertial>
      <origin rpy="0 0 0" xyz="0.0 -0.2 0.0"/>
      <mass value="2.95"/>
      <inertia ixx="0.027" ixy="0" ixz="0" iyy="0.45993" iyz="0" izz="0.004"/>
    </inertial>
    <visual>
      <origin rpy="0 0 3.1415" xyz="-0.00959 -0.19131 -0.00001"/>
      <geometry>
        <mesh filename="package://amigo_description/media/meshes/upperarmtextured.dae" scale="0.0004 0.0004 0.0004"/>
      </geometry>
      <material name="amigo_description/white"/>
    </visual>
    <collision>
      <origin rpy="0 0 3.1415" xyz="-0.00959 -0.19131 -0.00001"/>
      <geometry>
        <mesh filename="package://amigo_description/media/meshes/upperarmtextured.dae" scale="0.0004 0.0004 0.0004"/>
      </geometry>
    </collision>
  </link>
  <gazebo reference="upper_arm_left">
    <material>amigo_description/white</material>
    <turnGravityOff>false</turnGravityOff>
  </gazebo>
  <link name="elbow_link4_left">
    <inertial>
      <origin rpy="0 0 0" xyz="0.0 0.0 0.0"/>
      <mass value="0.1"/>
      <inertia ixx="0.001" ixy="0" ixz="0" iyy="0.6" iyz="0" izz="0.001"/>
    </inertial>
    <visual>
      <origin rpy="0 0 0" xyz="0.0 0.0 0.0"/>
      <geometry>
        <cylinder length="0.0" radius="0.0"/>
      </geometry>
      <material name="Grey">
     </material>
    </visual>
    <collision>
      <origin rpy="0 0 0" xyz="0.0 0.0 0.0"/>
      <geometry>
        <cylinder length="0.0" radius="0.0"/>
      </geometry>
    </collision>
  </link>
  <gazebo reference="elbow_link4_left">
    <material>Gazebo/Grey</material>
    <turnGravityOff>false</turnGravityOff>
  </gazebo>
  <link name="fore_arm_left">
    <inertial>
      <origin rpy="0.0 0 0" xyz="0.0 -0.14 0.0"/>
      <mass value="0.85"/>
      <inertia ixx="0.001" ixy="0" ixz="0" iyy="0.5" iyz="0" izz="0.001"/>
    </inertial>
    <visual>
      <origin rpy="0 -1.5708 0" xyz="0.00425 -0.14868 0.00547"/>
      <geometry>
        <mesh filename="package://amigo_description/media/meshes/forearmtextured.dae" scale="0.0004 0.0004 0.0004"/>
      </geometry>
      <material name="amigo_description/white"/>
    </visual>
    <collision>
      <origin rpy="0 -1.5708 0" xyz="0.00425 -0.14868 0.00547"/>
      <geometry>
        <mesh filename="package://amigo_description/media/meshes/forearmtextured.dae" scale="0.0004 0.0004 0.0004"/>
      </geometry>
    </collision>
  </link>
  <gazebo reference="fore_arm_left">
    <material>amigo_description/white</material>
    <turnGravityOff>false</turnGravityOff>
  </gazebo>
  <link name="wrist_link6_left">
    <inertial>
      <origin rpy="0 0 0" xyz="0.0 0.0 0.0"/>
      <mass value="0.01"/>
      <inertia ixx="0.001" ixy="0" ixz="0" iyy="0.03322" iyz="0" izz="0.001"/>
    </inertial>
    <visual>
      <origin rpy="1.5708 0 0" xyz="0.0 0.0 0.0"/>
      <geometry>
        <cylinder length="0.0" radius="0.0"/>
      </geometry>
      <material name="Black">
     </material>
    </visual>
    <collision>
      <origin rpy="1.5708 0 0" xyz="0.0 0.0 0.0"/>
      <geometry>
        <cylinder length="0.0" radius="0.0"/>
      </geometry>
    </collision>
  </link>
  <gazebo reference="wrist_link6_left">
    <material>Gazebo/Black</material>
    <turnGravityOff>false</turnGravityOff>
  </gazebo>
  <link name="hand_left">
    <inertial>
      <origin rpy="0 0 0" xyz="0.048 0.0 0.0"/>
      <mass value="0.2"/>
      <inertia ixx="0.01" ixy="0" ixz="0" iyy="0.01" iyz="0" izz="0.0622"/>
    </inertial>
    <visual>
      <origin rpy="0 0 0" xyz="0.048 0.0 0.0"/>
      <geometry>
        <box size="0.080 0.085 0.038"/>
      </geometry>
      <material name="Grey">
     </material>
    </visual>
    <collision>
      <origin rpy="0 0 0" xyz="0.048 0.0 0.0"/>
      <geometry>
        <box size="0.080 0.085 0.038"/>
      </geometry>
    </collision>
  </link>
  <gazebo reference="hand_left">
    <material>Gazebo/Grey</material>
    <turnGravityOff>false</turnGravityOff>
  </gazebo>
  <link name="finger1_left">
    <inertial>
      <origin rpy="0 0 0" xyz="0.0 0.0 -0.03"/>
      <mass value="0.01"/>
      <inertia ixx="0.01" ixy="0" ixz="0" iyy="0.01" iyz="0" izz="0.01"/>
    </inertial>
    <visual>
      <origin rpy="0 0 0" xyz="0.0 0.0 -0.03"/>
      <geometry>
        <box size="0.018 0.018 0.06"/>
      </geometry>
      <material name="Black">
     </material>
    </visual>
    <collision>
      <origin rpy="0 0 0" xyz="0.0 0.0 -0.03"/>
      <geometry>
        <box size="0.018 0.018 0.06"/>
      </geometry>
    </collision>
  </link>
  <gazebo reference="finger1_left">
    <material>Gazebo/Black</material>
    <turnGravityOff>false</turnGravityOff>
  </gazebo>
  <gazebo reference="finger1_left">
    <mu1 value="100.0"/>
    <mu2 value="100.0"/>
  </gazebo>
  <link name="finger1_phalanx_left">
    <inertial>
      <origin rpy="0 0 0" xyz="0.0 0.0 0"/>
      <mass value="0.01"/>
      <inertia ixx="0.001" ixy="0" ixz="0" iyy="0.001" iyz="0" izz="0.001"/>
    </inertial>
    <visual>
      <origin rpy="0 0 0" xyz="0.0 0.0 0"/>
      <geometry>
        <cylinder length="0.019" radius="0.009"/>
      </geometry>
      <material name="White">
     </material>
    </visual>
    <collision>
      <origin rpy="0 0 0" xyz="0.0 0.0 0"/>
      <geometry>
        <cylinder length="0.019" radius="0.009"/>
      </geometry>
    </collision>
  </link>
  <gazebo reference="finger1_phalanx_left">
    <material>Gazebo/White</material>
    <turnGravityOff>false</turnGravityOff>
  </gazebo>
  <link name="finger1_tip_left">
    <inertial>
      <origin rpy="0 0 0" xyz="0.0 0.0 -0.03"/>
      <mass value="0.01"/>
      <inertia ixx="0.00037" ixy="0" ixz="0" iyy="0.00052" iyz="0" izz="0.00052"/>
    </inertial>
    <visual>
      <origin rpy="0 0 0" xyz="0.0 0.0 -0.03"/>
      <geometry>
        <box size="0.018 0.018 0.06"/>
      </geometry>
      <material name="Black">
     </material>
    </visual>
    <collision>
      <origin rpy="0 0 0" xyz="0.0 0.0 -0.03"/>
      <geometry>
        <box size="0.018 0.018 0.06"/>
      </geometry>
    </collision>
  </link>
  <gazebo reference="finger1_tip_left">
    <material>Gazebo/Black</material>
    <turnGravityOff>false</turnGravityOff>
  </gazebo>
  <gazebo reference="finger1_tip_left">
    <mu1 value="100.0"/>
    <mu2 value="100.0"/>
  </gazebo>
  <link name="finger1_tip_phalanx_left">
    <inertial>
      <origin rpy="0 0 0" xyz="0.0 0.0 0"/>
      <mass value="0.01"/>
      <inertia ixx="0.001" ixy="0" ixz="0" iyy="0.001" iyz="0" izz="0.001"/>
    </inertial>
    <visual>
      <origin rpy="0 0 0" xyz="0.0 0.0 0"/>
      <geometry>
        <cylinder length="0.017" radius="0.009"/>
      </geometry>
      <material name="White">
     </material>
    </visual>
    <collision>
      <origin rpy="0 0 0" xyz="0.0 0.0 0"/>
      <geometry>
        <cylinder length="0.017" radius="0.009"/>
      </geometry>
    </collision>
  </link>
  <gazebo reference="finger1_tip_phalanx_left">
    <material>Gazebo/White</material>
    <turnGravityOff>false</turnGravityOff>
  </gazebo>
  <link name="finger2_left">
    <inertial>
      <origin rpy="0 0 0" xyz="0.0 0.0 -0.03"/>
      <mass value="0.01"/>
      <inertia ixx="0.01" ixy="0" ixz="0" iyy="0.01" iyz="0" izz="0.01"/>
    </inertial>
    <visual>
      <origin rpy="0 0 0" xyz="0.0 0.0 -0.03"/>
      <geometry>
        <box size="0.018 0.018 0.06"/>
      </geometry>
      <material name="Black">
     </material>
    </visual>
    <collision>
      <origin rpy="0 0 0" xyz="0.0 0.0 -0.03"/>
      <geometry>
        <box size="0.018 0.018 0.06"/>
      </geometry>
    </collision>
  </link>
  <gazebo reference="finger2_left">
    <material>Gazebo/Black</material>
    <turnGravityOff>false</turnGravityOff>
  </gazebo>
  <gazebo reference="finger2_left">
    <mu1 value="100.0"/>
    <mu2 value="100.0"/>
  </gazebo>
  <link name="finger2_phalanx_left">
    <inertial>
      <origin rpy="0 0 0" xyz="0.0 0.0 0"/>
      <mass value="0.01"/>
      <inertia ixx="0.001" ixy="0" ixz="0" iyy="0.001" iyz="0" izz="0.001"/>
    </inertial>
    <visual>
      <origin rpy="0 0 0" xyz="0.0 0.0 0"/>
      <geometry>
        <cylinder length="0.019" radius="0.009"/>
      </geometry>
      <material name="White">
     </material>
    </visual>
    <collision>
      <origin rpy="0 0 0" xyz="0.0 0.0 0"/>
      <geometry>
        <cylinder length="0.019" radius="0.009"/>
      </geometry>
    </collision>
  </link>
  <gazebo reference="finger2_phalanx_left">
    <material>Gazebo/White</material>
    <turnGravityOff>false</turnGravityOff>
  </gazebo>
  <link name="finger2_tip_left">
    <inertial>
      <origin rpy="0 0 0" xyz="0.0 0.0 -0.03"/>
      <mass value="0.01"/>
      <inertia ixx="0.00037" ixy="0" ixz="0" iyy="0.00052" iyz="0" izz="0.00052"/>
    </inertial>
    <visual>
      <origin rpy="0 0 0" xyz="0.0 0.0 -0.03"/>
      <geometry>
        <box size="0.018 0.018 0.06"/>
      </geometry>
      <material name="Black">
     </material>
    </visual>
    <collision>
      <origin rpy="0 0 0" xyz="0.0 0.0 -0.03"/>
      <geometry>
        <box size="0.018 0.018 0.06"/>
      </geometry>
    </collision>
  </link>
  <gazebo reference="finger2_tip_left">
    <material>Gazebo/Black</material>
    <turnGravityOff>false</turnGravityOff>
  </gazebo>
  <gazebo reference="finger2_tip_left">
    <mu1 value="100.0"/>
    <mu2 value="100.0"/>
  </gazebo>
  <link name="finger2_tip_phalanx_left">
    <inertial>
      <origin rpy="0 0 0" xyz="0.0 0.0 0"/>
      <mass value="0.01"/>
      <inertia ixx="0.001" ixy="0" ixz="0" iyy="0.001" iyz="0" izz="0.001"/>
    </inertial>
    <visual>
      <origin rpy="0 0 0" xyz="0.0 0.0 0"/>
      <geometry>
        <cylinder length="0.017" radius="0.009"/>
      </geometry>
      <material name="White">
     </material>
    </visual>
    <collision>
      <origin rpy="0 0 0" xyz="0.0 0.0 0"/>
      <geometry>
        <cylinder length="0.017" radius="0.009"/>
      </geometry>
    </collision>
  </link>
  <gazebo reference="finger2_tip_phalanx_left">
    <material>Gazebo/White</material>
    <turnGravityOff>false</turnGravityOff>
  </gazebo>
  <link name="grippoint_left">
    <inertial>
      <origin rpy="0 0 0" xyz="-0.1 0.0 0.0"/>
      <mass value="0.01"/>
      <inertia ixx="0.0001" ixy="0" ixz="0" iyy="0.0001" iyz="0" izz="0.0001"/>
    </inertial>
    <visual>
      <origin rpy="0 0 0 " xyz="-0.1 0.0 0.0"/>
      <geometry>
        <box size="0.0 0.0 0.0"/>
      </geometry>
      <material name="Blue">
     </material>
    </visual>
    <collision>
      <origin rpy="0 0 0 " xyz="-0.1 0.0 0.0"/>
      <geometry>
        <box size="0.0 0.0 0.0"/>
      </geometry>
    </collision>
  </link>
  <gazebo reference="grippoint_left">
    <material>Gazebo/Blue</material>
    <turnGravityOff>false</turnGravityOff>
  </gazebo>
  <joint name="shoulder_mount_joint_left" type="fixed">
    <parent link="torso"/>
    <child link="shoulder_mount_left"/>
    <origin rpy="0 0 0.0" xyz="0.05 -0.22 0.0"/>
  </joint>
  <joint name="shoulder_yaw_joint_left" type="revolute">
    <parent link="shoulder_mount_left"/>
    <child link="shoulder_link1_left"/>
    <origin rpy="-1.5708 -1.5708 0" xyz="0 0 0"/>
    <axis xyz="-1 0 0"/>
    <dynamics damping="4.0" friction="4.87"/>
    <limit effort="13.4" lower="-1.57" upper="0.0" velocity="1.0"/>
  </joint>
  <joint name="shoulder_pitch_joint_left" type="revolute">
    <parent link="shoulder_link1_left"/>
    <child link="shoulder_link2_left"/>
    <origin rpy="-1.5708  0 0" xyz="0.0 0.0 0.0"/>
    <axis xyz="0 -1 0"/>
    <dynamics damping="4.0" friction="6.06"/>
    <limit effort="13.4" lower="-1.57" upper="1.57" velocity="1.0"/>
  </joint>
  <joint name="shoulder_roll_joint_left" type="revolute">
    <parent link="shoulder_link2_left"/>
    <child link="upper_arm_left"/>
    <origin rpy="1.5708 0 0.0" xyz="0.0 0.0 0.0"/>
    <axis xyz="0 -1.0 0"/>
    <dynamics damping="3.8" friction="2.216"/>
    <limit effort="9.8" lower="-1.57" upper="1.57" velocity="1.0"/>
  </joint>
  <joint name="elbow_pitch_joint_left" type="revolute">
    <parent link="upper_arm_left"/>
    <child link="elbow_link4_left"/>
    <origin rpy="-1.5708 0 0" xyz="0.01 -0.32 0.0"/>
    <axis xyz="0 -1 0"/>
    <dynamics damping="3" friction="1.18"/>
    <limit effort="4.5" lower="0.0" upper="2.23" velocity="1.0"/>
  </joint>
  <joint name="elbow_roll_joint_left" type="revolute">
    <parent link="elbow_link4_left"/>
    <child link="fore_arm_left"/>
    <origin rpy="1.5708 0 0" xyz="0.0 0.0 0.0"/>
    <axis xyz="0 -1.0 0"/>
    <dynamics damping="3.5" friction="1.35"/>
    <limit effort="4.5" lower="-1.83" upper="1.83" velocity="1.0"/>
  </joint>
  <joint name="wrist_pitch_joint_left" type="revolute">
    <parent link="fore_arm_left"/>
    <child link="wrist_link6_left"/>
    <origin rpy="-1.5708 0 -1.5708" xyz="0.01 -0.28 0.0"/>
    <axis xyz="0 -1 0"/>
    <dynamics damping="0.35" friction="0.63"/>
    <limit effort="1" lower="-0.95" upper="0.95" velocity="1.0"/>
  </joint>
  <joint name="wrist_yaw_joint_left" type="revolute">
    <parent link="wrist_link6_left"/>
    <child link="hand_left"/>
    <origin rpy="0 0 0" xyz="0.0 0.0 0.0"/>
    <axis xyz="0 0 -1.01"/>
    <dynamics damping="0.3" friction="0.68"/>
    <limit effort="1" lower="-0.61" upper="0.61" velocity="1.0"/>
  </joint>
  <joint name="finger1_joint_left" type="revolute">
    <parent link="hand_left"/>
    <child link="finger1_left"/>
    <origin rpy="0 -1.57 0" xyz=" 0.075 0.02 0"/>
    <axis xyz="1 0 0"/>
    <dynamics damping="0.5" friction="1.0"/>
    <limit effort="3" lower="-1.57" upper="1.57" velocity="1.0"/>
  </joint>
  <joint name="finger1_phalanx_joint_left" type="fixed">
    <parent link="finger1_left"/>
    <child link="finger1_phalanx_left"/>
    <origin rpy="0 1.57 0" xyz="0 0 -0.06"/>
  </joint>
  <joint name="finger1_tip_joint_left" type="revolute">
    <parent link="finger1_left"/>
    <child link="finger1_tip_left"/>
    <origin rpy="0 0 0" xyz=" 0 0.0 -0.06"/>
    <axis xyz="1 0 0"/>
    <dynamics damping="0.5" friction="1.0"/>
    <limit effort="3" lower="-1.57" upper="1.57" velocity="1.0"/>
  </joint>
  <joint name="finger1_tip_phalanx_joint_left" type="fixed">
    <parent link="finger1_tip_left"/>
    <child link="finger1_tip_phalanx_left"/>
    <origin rpy="0 1.57 0" xyz="0 0 -0.06"/>
  </joint>
  <joint name="finger2_joint_left" type="revolute">
    <parent link="hand_left"/>
    <child link="finger2_left"/>
    <origin rpy="0 -1.57 0" xyz="0.075 -0.02 0"/>
    <axis xyz="-1 0 0"/>
    <dynamics damping="0.5" friction="1.0"/>
    <limit effort="3" lower="-1.57" upper="1.57" velocity="1.0"/>
  </joint>
  <joint name="finger2_phalanx_joint_left" type="fixed">
    <parent link="finger2_left"/>
    <child link="finger2_phalanx_left"/>
    <origin rpy="0 1.57 0" xyz="0 0 -0.06"/>
  </joint>
  <joint name="finger2_tip_joint_left" type="revolute">
    <parent link="finger2_left"/>
    <child link="finger2_tip_left"/>
    <origin rpy="0 0 0" xyz="0 0 -0.06"/>
    <axis xyz="-1 0 0"/>
    <dynamics damping="0.5" friction="1.0"/>
    <limit effort="3" lower="-1.57" upper="1.57" velocity="1.0"/>
  </joint>
  <joint name="finger2_tip_phalanx_joint_left" type="fixed">
    <parent link="finger2_tip_left"/>
    <child link="finger2_tip_phalanx_left"/>
    <origin rpy="0 1.57 0" xyz="0 0 -0.06"/>
  </joint>
  <joint name="grippoint_joint_left" type="fixed">
    <parent link="hand_left"/>
    <child link="grippoint_left"/>
    <origin rpy="0 0 0" xyz="0.14 0.0 0.0"/>
  </joint>
  <!--extra arm visuals-->
  <author>Kris van Tienhoven</author>
  <license>BSD</license>
  <review notes="" status="unreviewed"/>
  <link name="upper_arm_top_right">
    <inertial>
      <origin rpy="0 0 0" xyz="0.0 0.0 0.0"/>
      <mass value="0.01"/>
      <inertia ixx="0.027" ixy="0" ixz="0" iyy="0.027" iyz="0" izz="0.004"/>
    </inertial>
    <visual>
      <origin rpy="0 0 0" xyz="0.0 0.0 0.0"/>
      <geometry>
        <cylinder length="0.02" radius="0.0561"/>
      </geometry>
      <material name="Black">
     </material>
    </visual>
    <collision>
      <origin rpy="0 0 0" xyz="0.0 0.0 0.0"/>
      <geometry>
        <cylinder length="0.02" radius="0.0561"/>
      </geometry>
    </collision>
  </link>
  <gazebo reference="upper_arm_top_right">
    <material>Gazebo/Black</material>
    <turnGravityOff>false</turnGravityOff>
  </gazebo>
  <link name="elbow_extra_block_right">
    <inertial>
      <origin rpy="0 0 0" xyz="0.0 0.0 0.0"/>
      <mass value="0.01"/>
      <inertia ixx="0.001" ixy="0" ixz="0" iyy="0.001" iyz="0" izz="0.001"/>
    </inertial>
    <visual>
      <origin rpy="0 0 0" xyz="-0.036 0.0 0.02"/>
      <geometry>
        <box size="0.015 0.08 0.06"/>
      </geometry>
      <material name="Black">
     </material>
    </visual>
    <collision>
      <origin rpy="0 0 0" xyz="-0.036 0.0 0.02"/>
      <geometry>
        <box size="0.015 0.08 0.06"/>
      </geometry>
    </collision>
  </link>
  <gazebo reference="elbow_extra_block_right">
    <material>Gazebo/Black</material>
    <turnGravityOff>false</turnGravityOff>
  </gazebo>
  <link name="elbow_extra_block2_right">
    <inertial>
      <origin rpy="0 0 0" xyz="0.0 0.0 0.0"/>
      <mass value="0.01"/>
      <inertia ixx="0.001" ixy="0" ixz="0" iyy="0.001" iyz="0" izz="0.001"/>
    </inertial>
    <visual>
      <origin rpy="1.5708 0 0" xyz="0.0 0.0 0.0"/>
      <geometry>
        <cylinder length="0.08" radius="0.03"/>
      </geometry>
      <material name="Grey">
     </material>
    </visual>
    <collision>
      <origin rpy="1.5708 0 0" xyz="0.0 0.0 0.0"/>
      <geometry>
        <cylinder length="0.08" radius="0.03"/>
      </geometry>
    </collision>
  </link>
  <gazebo reference="elbow_extra_block2_right">
    <material>Gazebo/Grey</material>
    <turnGravityOff>false</turnGravityOff>
  </gazebo>
  <link name="fore_arm_top_right">
    <inertial>
      <origin rpy="0 0 0" xyz="0.0 0.0 0.0"/>
      <mass value="0.01"/>
      <inertia ixx="0.0054" ixy="0" ixz="0" iyy="0.0054" iyz="0" izz="0.0004"/>
    </inertial>
    <visual>
      <origin rpy="0 0 0" xyz="0.0 0.0 0.01"/>
      <geometry>
        <cylinder length="0.01" radius="0.037"/>
      </geometry>
      <material name="Black">
     </material>
    </visual>
    <collision>
      <origin rpy="0 0 0" xyz="0.0 0.0 0.01"/>
      <geometry>
        <cylinder length="0.01" radius="0.037"/>
      </geometry>
    </collision>
  </link>
  <gazebo reference="fore_arm_top_right">
    <material>Gazebo/Black</material>
    <turnGravityOff>false</turnGravityOff>
  </gazebo>
  <link name="wrist_visual_right">
    <inertial>
      <origin rpy="0 0 0" xyz="0.0 0.0 0.0"/>
      <mass value="0.01"/>
      <inertia ixx="0.001" ixy="0" ixz="0" iyy="0.001" iyz="0" izz="0.001"/>
    </inertial>
    <visual>
      <origin rpy="0 0 0" xyz="0.0 0.0 0.0"/>
      <geometry>
        <cylinder length="0.06" radius="0.018"/>
      </geometry>
      <material name="Grey">
     </material>
    </visual>
    <collision>
      <origin rpy="0 0 0" xyz="0.0 0.0 0.0"/>
      <geometry>
        <cylinder length="0.06" radius="0.018"/>
      </geometry>
    </collision>
  </link>
  <gazebo reference="wrist_visual_right">
    <material>Gazebo/Grey</material>
    <turnGravityOff>false</turnGravityOff>
  </gazebo>
  <link name="wrist_to_hand_block_right">
    <inertial>
      <origin rpy="0 0 0" xyz="0.0 0.0 0.0"/>
      <mass value="0.01"/>
      <inertia ixx="0.001" ixy="0" ixz="0" iyy="0.001" iyz="0" izz="0.001"/>
    </inertial>
    <visual>
      <origin rpy="0 0 0" xyz="0.0 0.0 0.0"/>
      <geometry>
        <box size="0.03 0.02 0.038"/>
      </geometry>
      <material name="Grey">
     </material>
    </visual>
    <collision>
      <origin rpy="0 0 0" xyz="0.0 0.0 0.0"/>
      <geometry>
        <box size="0.03 0.02 0.038"/>
      </geometry>
    </collision>
  </link>
  <gazebo reference="wrist_to_hand_block_right">
    <material>Gazebo/Grey</material>
    <turnGravityOff>false</turnGravityOff>
  </gazebo>
  <joint name="upper_arm_top_joint_right" type="fixed">
    <parent link="upper_arm_right"/>
    <child link="upper_arm_top_right"/>
    <origin rpy="1.5708 0 0.0" xyz="-0.01 -0.1 0.0"/>
  </joint>
  <joint name="elbow_extra_block_joint_right" type="fixed">
    <parent link="upper_arm_right"/>
    <child link="elbow_extra_block_right"/>
    <origin rpy="-1.5708 0 0" xyz="0.0 -0.31 0.0"/>
  </joint>
  <joint name="elbow_extra_block2_joint_right" type="fixed">
    <parent link="upper_arm_right"/>
    <child link="elbow_extra_block2_right"/>
    <origin rpy="-1.5708 0 0" xyz="0.0 -0.31 0.0"/>
  </joint>
  <joint name="fore_arm_top_joint_right" type="fixed">
    <parent link="fore_arm_right"/>
    <child link="fore_arm_top_right"/>
    <origin rpy="1.5708 0 0" xyz="0.002 -0.011 0.0"/>
  </joint>
  <joint name="wrist_visual_joint_right" type="fixed">
    <parent link="wrist_link6_right"/>
    <child link="wrist_visual_right"/>
    <origin rpy="1.5708 0 0" xyz="-0.02 0.0 0.0"/>
  </joint>
  <joint name="wrist_to_hand_block_joint_right" type="fixed">
    <parent link="wrist_link6_right"/>
    <child link="wrist_to_hand_block_right"/>
    <origin rpy="0 0 0" xyz="0.0 0.0 0.0"/>
  </joint>
  <link name="upper_arm_top_left">
    <inertial>
      <origin rpy="0 0 0" xyz="0.0 0.0 0.0"/>
      <mass value="0.01"/>
      <inertia ixx="0.027" ixy="0" ixz="0" iyy="0.027" iyz="0" izz="0.004"/>
    </inertial>
    <visual>
      <origin rpy="0 0 0" xyz="0.0 0.0 0.0"/>
      <geometry>
        <cylinder length="0.02" radius="0.0561"/>
      </geometry>
      <material name="Black">
     </material>
    </visual>
    <collision>
      <origin rpy="0 0 0" xyz="0.0 0.0 0.0"/>
      <geometry>
        <cylinder length="0.02" radius="0.0561"/>
      </geometry>
    </collision>
  </link>
  <gazebo reference="upper_arm_top_left">
    <material>Gazebo/Black</material>
    <turnGravityOff>false</turnGravityOff>
  </gazebo>
  <link name="elbow_extra_block_left">
    <inertial>
      <origin rpy="0 0 0" xyz="0.0 0.0 0.0"/>
      <mass value="0.01"/>
      <inertia ixx="0.001" ixy="0" ixz="0" iyy="0.001" iyz="0" izz="0.001"/>
    </inertial>
    <visual>
      <origin rpy="0 0 0" xyz="-0.036 0.0 0.02"/>
      <geometry>
        <box size="0.015 0.08 0.06"/>
      </geometry>
      <material name="Black">
     </material>
    </visual>
    <collision>
      <origin rpy="0 0 0" xyz="-0.036 0.0 0.02"/>
      <geometry>
        <box size="0.015 0.08 0.06"/>
      </geometry>
    </collision>
  </link>
  <gazebo reference="elbow_extra_block_left">
    <material>Gazebo/Black</material>
    <turnGravityOff>false</turnGravityOff>
  </gazebo>
  <link name="elbow_extra_block2_left">
    <inertial>
      <origin rpy="0 0 0" xyz="0.0 0.0 0.0"/>
      <mass value="0.01"/>
      <inertia ixx="0.001" ixy="0" ixz="0" iyy="0.001" iyz="0" izz="0.001"/>
    </inertial>
    <visual>
      <origin rpy="1.5708 0 0" xyz="0.0 0.0 0.0"/>
      <geometry>
        <cylinder length="0.08" radius="0.03"/>
      </geometry>
      <material name="Grey">
     </material>
    </visual>
    <collision>
      <origin rpy="1.5708 0 0" xyz="0.0 0.0 0.0"/>
      <geometry>
        <cylinder length="0.08" radius="0.03"/>
      </geometry>
    </collision>
  </link>
  <gazebo reference="elbow_extra_block2_left">
    <material>Gazebo/Grey</material>
    <turnGravityOff>false</turnGravityOff>
  </gazebo>
  <link name="fore_arm_top_left">
    <inertial>
      <origin rpy="0 0 0" xyz="0.0 0.0 0.0"/>
      <mass value="0.01"/>
      <inertia ixx="0.0054" ixy="0" ixz="0" iyy="0.0054" iyz="0" izz="0.0004"/>
    </inertial>
    <visual>
      <origin rpy="0 0 0" xyz="0.0 0.0 0.01"/>
      <geometry>
        <cylinder length="0.01" radius="0.037"/>
      </geometry>
      <material name="Black">
     </material>
    </visual>
    <collision>
      <origin rpy="0 0 0" xyz="0.0 0.0 0.01"/>
      <geometry>
        <cylinder length="0.01" radius="0.037"/>
      </geometry>
    </collision>
  </link>
  <gazebo reference="fore_arm_top_left">
    <material>Gazebo/Black</material>
    <turnGravityOff>false</turnGravityOff>
  </gazebo>
  <link name="wrist_visual_left">
    <inertial>
      <origin rpy="0 0 0" xyz="0.0 0.0 0.0"/>
      <mass value="0.01"/>
      <inertia ixx="0.001" ixy="0" ixz="0" iyy="0.001" iyz="0" izz="0.001"/>
    </inertial>
    <visual>
      <origin rpy="0 0 0" xyz="0.0 0.0 0.0"/>
      <geometry>
        <cylinder length="0.06" radius="0.018"/>
      </geometry>
      <material name="Grey">
     </material>
    </visual>
    <collision>
      <origin rpy="0 0 0" xyz="0.0 0.0 0.0"/>
      <geometry>
        <cylinder length="0.06" radius="0.018"/>
      </geometry>
    </collision>
  </link>
  <gazebo reference="wrist_visual_left">
    <material>Gazebo/Grey</material>
    <turnGravityOff>false</turnGravityOff>
  </gazebo>
  <link name="wrist_to_hand_block_left">
    <inertial>
      <origin rpy="0 0 0" xyz="0.0 0.0 0.0"/>
      <mass value="0.01"/>
      <inertia ixx="0.001" ixy="0" ixz="0" iyy="0.001" iyz="0" izz="0.001"/>
    </inertial>
    <visual>
      <origin rpy="0 0 0" xyz="0.0 0.0 0.0"/>
      <geometry>
        <box size="0.03 0.02 0.038"/>
      </geometry>
      <material name="Grey">
     </material>
    </visual>
    <collision>
      <origin rpy="0 0 0" xyz="0.0 0.0 0.0"/>
      <geometry>
        <box size="0.03 0.02 0.038"/>
      </geometry>
    </collision>
  </link>
  <gazebo reference="wrist_to_hand_block_left">
    <material>Gazebo/Grey</material>
    <turnGravityOff>false</turnGravityOff>
  </gazebo>
  <joint name="upper_arm_top_joint_left" type="fixed">
    <parent link="upper_arm_left"/>
    <child link="upper_arm_top_left"/>
    <origin rpy="1.5708 0 0.0" xyz="-0.01 -0.1 0.0"/>
  </joint>
  <joint name="elbow_extra_block_joint_left" type="fixed">
    <parent link="upper_arm_left"/>
    <child link="elbow_extra_block_left"/>
    <origin rpy="-1.5708 0 0" xyz="0.0 -0.31 0.0"/>
  </joint>
  <joint name="elbow_extra_block2_joint_left" type="fixed">
    <parent link="upper_arm_left"/>
    <child link="elbow_extra_block2_left"/>
    <origin rpy="-1.5708 0 0" xyz="0.0 -0.31 0.0"/>
  </joint>
  <joint name="fore_arm_top_joint_left" type="fixed">
    <parent link="fore_arm_left"/>
    <child link="fore_arm_top_left"/>
    <origin rpy="1.5708 0 0" xyz="0.002 -0.011 0.0"/>
  </joint>
  <joint name="wrist_visual_joint_left" type="fixed">
    <parent link="wrist_link6_left"/>
    <child link="wrist_visual_left"/>
    <origin rpy="1.5708 0 0" xyz="-0.02 0.0 0.0"/>
  </joint>
  <joint name="wrist_to_hand_block_joint_left" type="fixed">
    <parent link="wrist_link6_left"/>
    <child link="wrist_to_hand_block_left"/>
    <origin rpy="0 0 0" xyz="0.0 0.0 0.0"/>
  </joint>
  <!-- GAZEBO -->
  <gazebo>
    <link name="base_fixed_link">
      <pose>0.000000 0.000000 0.000000 0.000000 0.000000 0.000000</pose>
      <inertial>
        <pose>0.000000 0.000000 0.000000 0.000000 0.000000 0.000000</pose>
        <mass>10.000000</mass>
        <inertia>
          <ixx>0.100000</ixx>
          <ixy>0.100000</ixy>
          <ixz>0.100000</ixz>
          <iyy>0.100000</iyy>
          <iyz>0.100000</iyz>
          <izz>0.100000</izz>
        </inertia>
      </inertial>
      <velocity_decay>
        <linear>0.000000</linear>
        <angular>0.000000</angular>
      </velocity_decay>
    </link>
    <joint name="base_fixed_joint" type="revolute">
      <child>base_fixed_link</child>
      <parent>world</parent>
      <axis>
        <limit>
          <lower>0.000000</lower>
          <upper>0.000000</upper>
        </limit>
        <dynamics>
          <damping>0.000000</damping>
        </dynamics>
        <xyz>0.000000 0.000000 1.000000</xyz>
      </axis>
    </joint>
    <link name="base_x_link">
      <pose>0.000000 0.000000 0.000000 0.000000 0.000000 0.000000</pose>
      <inertial>
        <pose>0.000000 0.000000 0.000000 0.000000 0.000000 0.000000</pose>
        <mass>10.000000</mass>
        <inertia>
          <ixx>0.100000</ixx>
          <ixy>0.100000</ixy>
          <ixz>0.100000</ixz>
          <iyy>0.100000</iyy>
          <iyz>0.100000</iyz>
          <izz>0.100000</izz>
        </inertia>
      </inertial>
      <velocity_decay>
        <linear>0.000000</linear>
        <angular>0.000000</angular>
      </velocity_decay>
    </link>
    <joint name="base_x_joint" type="prismatic">
      <child>base_x_link</child>
      <parent>base_fixed_link</parent>
      <axis>
        <xyz>1.000000 0.000000 0.000000</xyz>
        <limit>
          <lower>-1000.000000</lower>
          <upper>1000.000000</upper>
        </limit>
        <dynamics>
          <damping>100.000000</damping>
        </dynamics>
      </axis>
    </joint>
    <link name="base_y_link">
      <pose>0.000000 0.000000 0.000000 0.000000 0.000000 0.000000</pose>
      <inertial>
        <pose>0.000000 0.000000 0.000000 0.000000 0.000000 0.000000</pose>
        <mass>10.000000</mass>
        <inertia>
          <ixx>0.100000</ixx>
          <ixy>0.100000</ixy>
          <ixz>0.100000</ixz>
          <iyy>0.100000</iyy>
          <iyz>0.100000</iyz>
          <izz>0.100000</izz>
        </inertia>
      </inertial>
      <velocity_decay>
        <linear>0.000000</linear>
        <angular>0.000000</angular>
      </velocity_decay>
    </link>
    <joint name="base_y_joint" type="prismatic">
      <child>base_y_link</child>
      <parent>base_x_link</parent>
      <axis>
        <xyz>0.000000 1.000000 0.000000</xyz>
        <limit>
          <lower>-1000.000000</lower>
          <upper>1000.000000</upper>
        </limit>
        <dynamics>
          <damping>100.000000</damping>
        </dynamics>
      </axis>
    </joint>
    <joint name="base_phi_joint" type="revolute">
      <child>base_link</child>
      <parent>base_y_link</parent>
      <axis>
        <xyz>0.000000 0.000000 1.000000</xyz>
        <limit>
          <lower>-10000000000000000.000000</lower>
          <upper>10000000000000000.000000</upper>
        </limit>
        <dynamics>
          <damping>100.000000</damping>
        </dynamics>
      </axis>
    </joint>
  </gazebo>
  <gazebo reference="base_link">
    <sensor name="base_kinect_openni_camera" type="depth">
      <update_rate>20.000000</update_rate>
      <camera name="base_kinect">
        <horizontal_fov>1.047198</horizontal_fov>
        <image>
          <width>640</width>
          <height>480</height>
          <format>R8G8B8</format>
        </image>
        <clip>
          <near>0.050000</near>
          <far>3.000000</far>
        </clip>
      </camera>
      <plugin filename="libKinectPlugin.so" name="base_kinect_camera_controller">
        <alwaysOn>1</alwaysOn>
        <updateRate>20</updateRate>
        <cameraName>base_kinect</cameraName>
        <imageTopicName>rgb/image_color</imageTopicName>
        <cameraInfoTopicName>rgb/camera_info</cameraInfoTopicName>
        <depthImageTopicName>depth/image</depthImageTopicName>
        <depthImageCameraInfoTopicName>depth/camera_info</depthImageCameraInfoTopicName>
        <pointCloudTopicName>rgb/points</pointCloudTopicName>
        <frameName>base_kinect/openni_depth_optical_frame</frameName>
      </plugin>
      <pose>0.300000 0.000000 0.315000 0.000000 -0.070000 0.000000</pose>
    </sensor>
    <sensor name="base_ray_sensor" type="ray">
      <update_rate>100.000000</update_rate>
      <ray>
        <scan>
          <horizontal>
            <samples>918</samples>
            <resolution>1.000000</resolution>
            <min_angle>-2.0027654171</min_angle>
            <max_angle>1.99840199947</max_angle>
          </horizontal>
          <vertical>
            <samples>1</samples>
            <min_angle>0.000000</min_angle>
            <max_angle>0.000000</max_angle>
          </vertical>
        </scan>
        <range>
          <min>0.05</min>
          <max>60.0</max>
          <resolution>0.010000</resolution>
        </range>
      </ray>
      <plugin filename="libLaserPlugin.so" name="base_ros_ray_sensor_controller">
        <gaussianNoise>0.005</gaussianNoise>
        <alwaysOn>1</alwaysOn>
        <updateRate>40</updateRate>
        <topicName>base_front_laser</topicName>
        <node_namespace>base</node_namespace>
        <frameName>base_laser</frameName>
      </plugin>
      <pose>0.310000 0.000000 0.240000 0.000000 0.000000 0.000000</pose>
    </sensor>
  </gazebo>
  <gazebo reference="neck_tilt">
    <sensor name="openni_camera" type="depth">
      <update_rate>20.000000</update_rate>
      <camera name="top_kinect">
        <horizontal_fov>1.047198</horizontal_fov>
        <image>
          <width>640</width>
          <height>480</height>
          <format>R8G8B8</format>
        </image>
        <clip>
          <near>0.050000</near>
          <far>3.000000</far>
        </clip>
      </camera>
      <plugin filename="libKinectPlugin.so" name="kinect_camera_controller">
        <alwaysOn>1</alwaysOn>
        <updateRate>20</updateRate>
        <cameraName>top_kinect</cameraName>
        <imageTopicName>rgb/image_color</imageTopicName>
        <cameraInfoTopicName>rgb/camera_info</cameraInfoTopicName>
        <depthImageTopicName>depth/image</depthImageTopicName>
        <depthImageCameraInfoTopicName>depth/camera_info</depthImageCameraInfoTopicName>
        <pointCloudTopicName>rgb/points</pointCloudTopicName>
        <frameName>top_kinect/openni_depth_optical_frame</frameName>
      </plugin>
      <pose>0.070000 0.000000 0.070000 0.000000 0.000000 0.000000</pose>
    </sensor>
  </gazebo>
  <gazebo>
    <plugin filename="libPositionController.so" name="position_controller">
      <package>amigo_description</package>
      <group_summary_file>custom/joint_groups.yaml</group_summary_file>
    </plugin>
    <plugin filename="libAmigoBaseController.so" name="base_controller">
      <package>amigo_controller_configuration_gazebo</package>
      <parameter_file>/parameters/mod_base_controller.yaml</parameter_file>
      <node_namespace>base</node_namespace>
      <odomTopic>odom</odomTopic>
    </plugin>
  </gazebo>
</robot>
